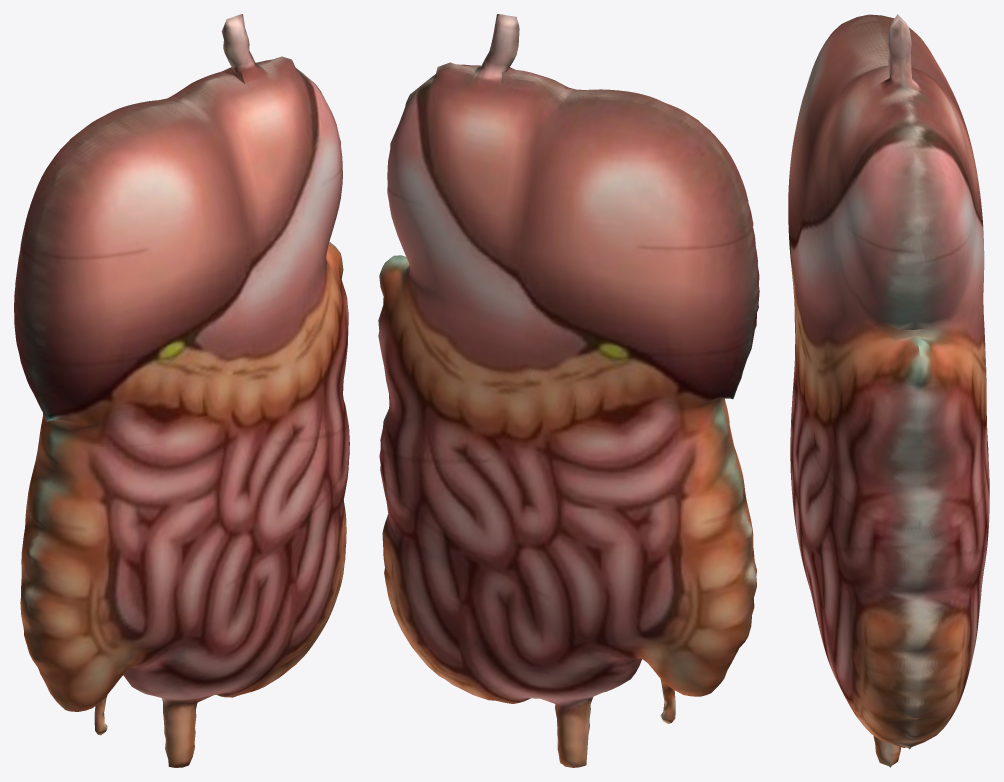
File: human_organs.glb
3 views of the same model, side by side, from view 1: azimuth 30°, elevation 25°; view 2: azimuth 150°, elevation 25°; view 3: azimuth 270°, elevation 25° (orthographic). The views are drawn at different scales.
Visible parts, largest first — view 1: root_Material_277_0; view 2: root_Material_277_0; view 3: root_Material_277_0.
Part boxes in pixels (box(x1,y1,x2,y2)): root_Material_277_0: box(14, 14, 349, 767); root_Material_277_0: box(378, 14, 759, 767); root_Material_277_0: box(788, 14, 989, 767).
Bounding box in the file's own units: 0.3613 × 0.7401 × 0.1741.
Materials: 1 (1 with a texture image).
